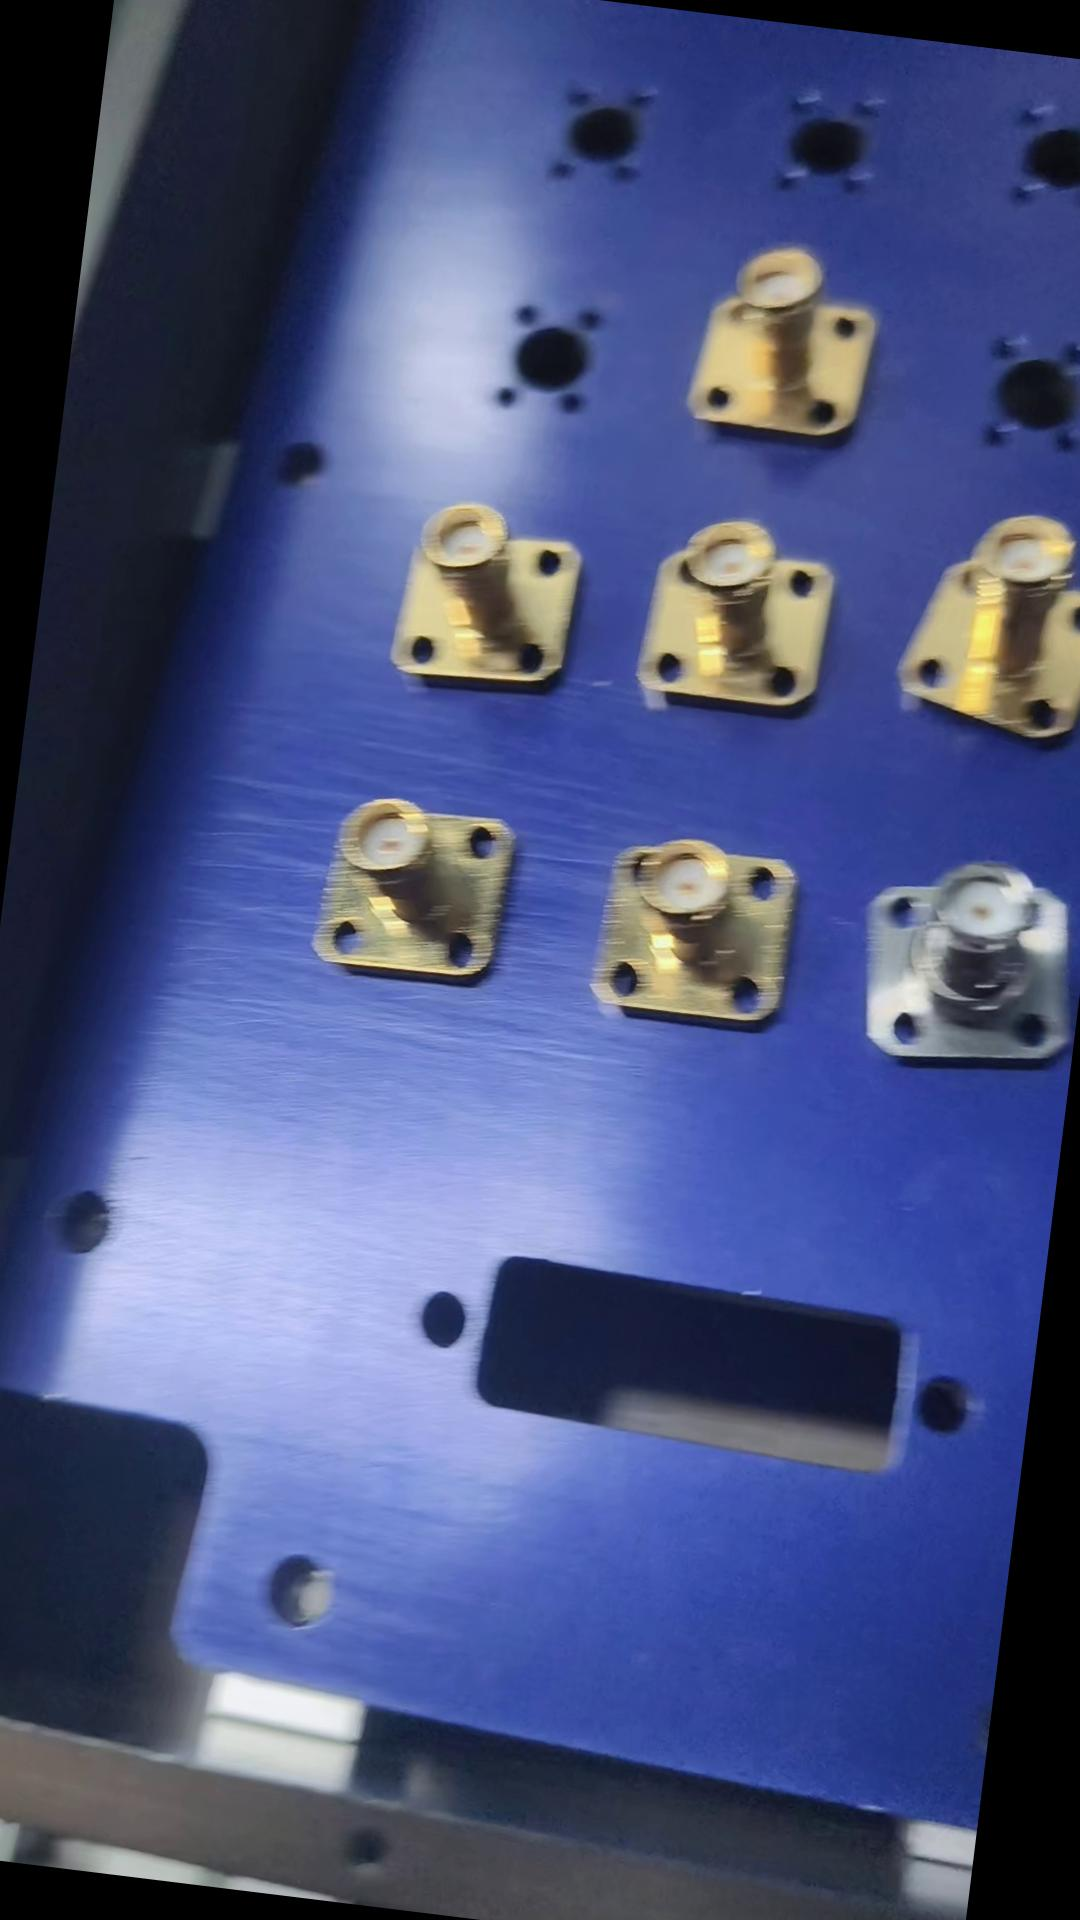SMA: (847, 849, 1080, 1089), (584, 827, 812, 1040), (629, 504, 847, 724), (897, 501, 1080, 756), (690, 235, 901, 455), (305, 790, 524, 997), (378, 493, 591, 698)
